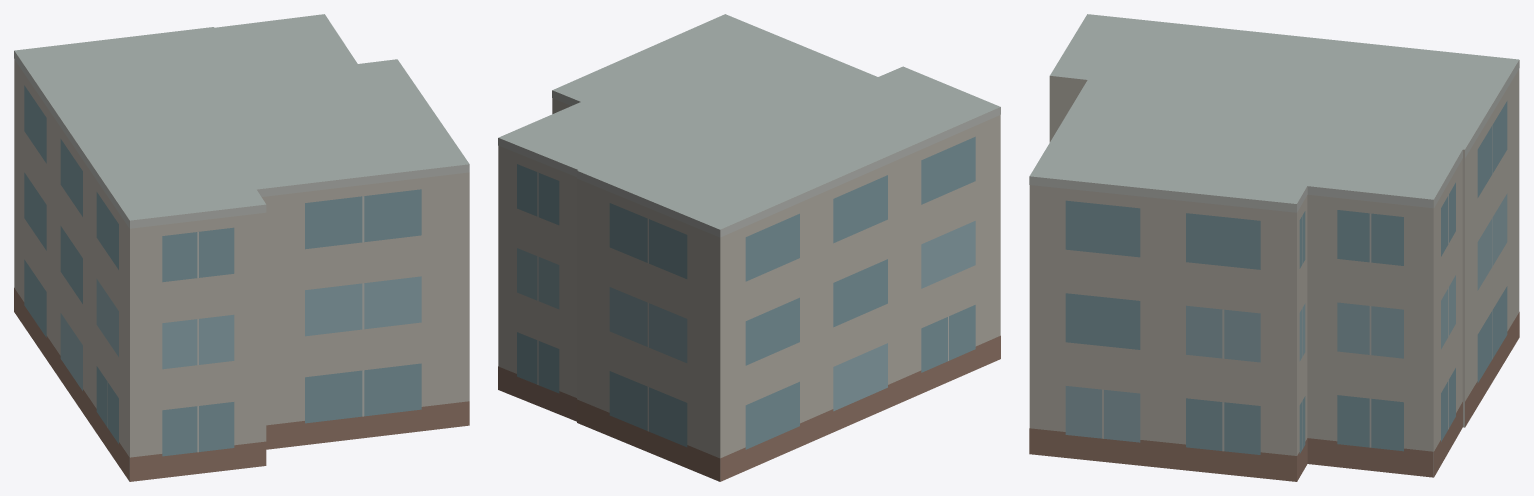
File: survey-upis-32656618.glb
3 renders of one model, left to right at view 1: azimuth 30°, elevation 25°; view 2: azimuth 150°, elevation 25°; view 3: azimuth 270°, elevation 25°, orthographic. The views are drawn at different scales.
Visible parts, largest first — view 1: survey-upis-32656618.tmp; view 2: survey-upis-32656618.tmp; view 3: survey-upis-32656618.tmp.
Boxes of the visible parts, x1,y1,x2,y2 form: survey-upis-32656618.tmp: (14, 14, 469, 481); survey-upis-32656618.tmp: (498, 14, 1000, 481); survey-upis-32656618.tmp: (1029, 14, 1519, 481).
Bounding box in the file's own units: 11.53 × 7.85 × 12.56.
